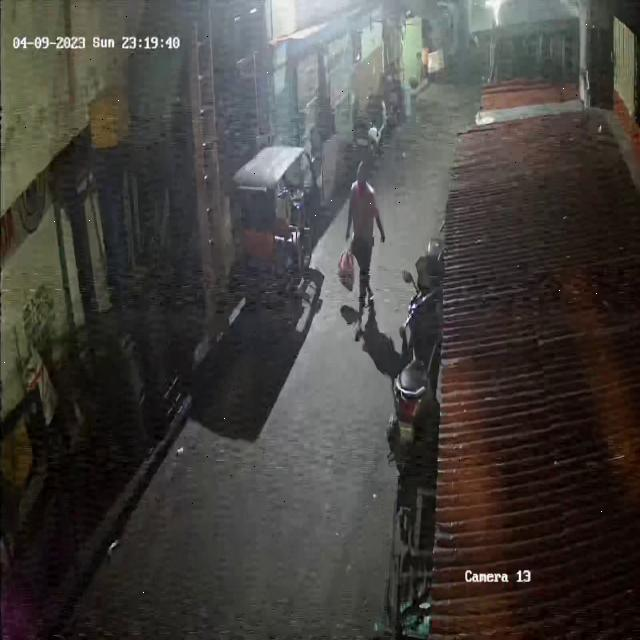human: (337, 161, 386, 340)
trash: (337, 236, 355, 292)
